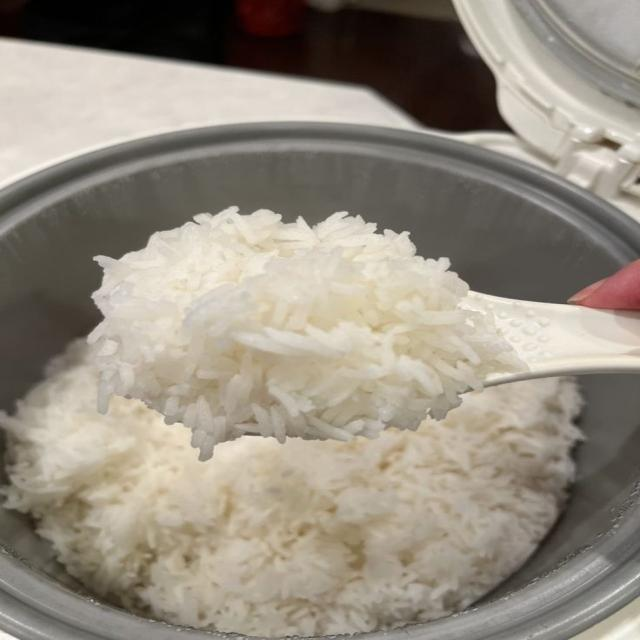rice: (0, 343, 579, 636), (91, 208, 517, 459)
